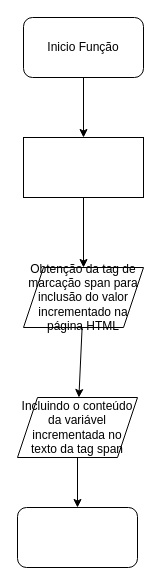
Some shapes in this 161 by 585 pixel diagram are drawn without their labels. The shapes that lost their labels are listed below. From the top down, each one's centre as x and y in pixels, then its label:
At [83,167]: "Icrementação da variável iniciada".
At [77,537]: "Fim Função".
